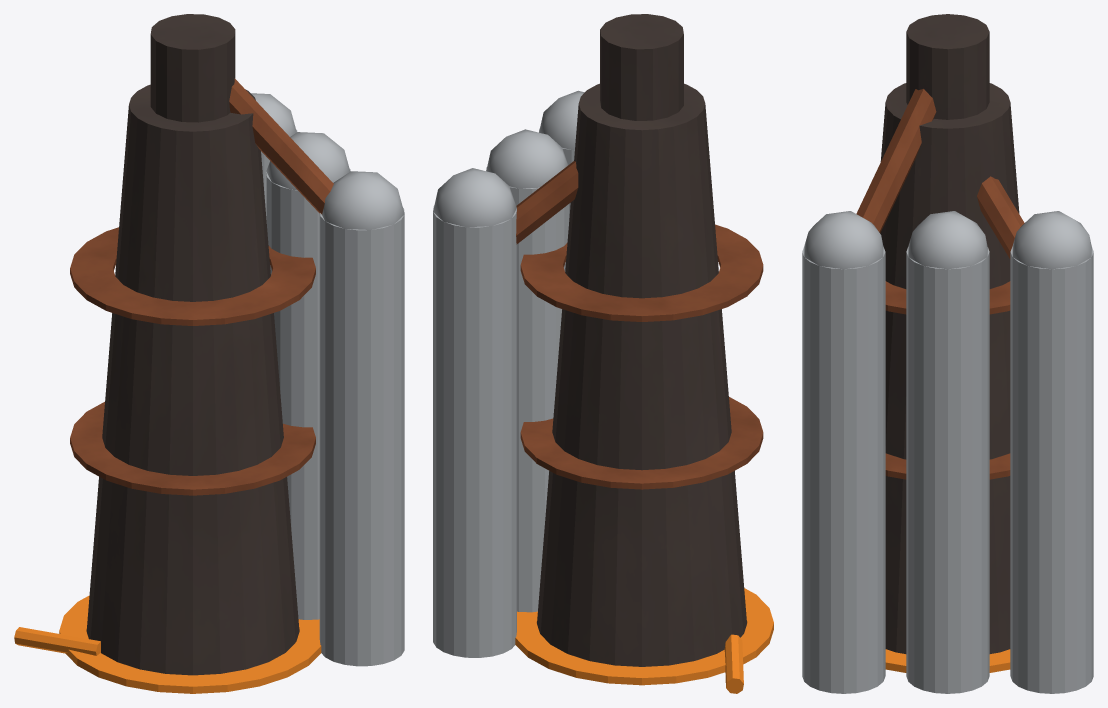
File: pv_vysoka_pec.glb
The picture shows the model from 3 angles, left to right: view 1: azimuth 30°, elevation 25°; view 2: azimuth 150°, elevation 25°; view 3: azimuth 270°, elevation 25°; orthographic projection. The views are drawn at different scales.
Visible parts, largest first — view 1: dum; view 2: dum; view 3: dum.
Boxes of the visible parts, x1,y1,x2,y2 form: dum: (14, 14, 404, 693); dum: (433, 14, 773, 693); dum: (802, 14, 1093, 693).
Size of the model in its own units: 12.66 by 25.08 by 11.17.
Materials: 1 (1 with a texture image).
